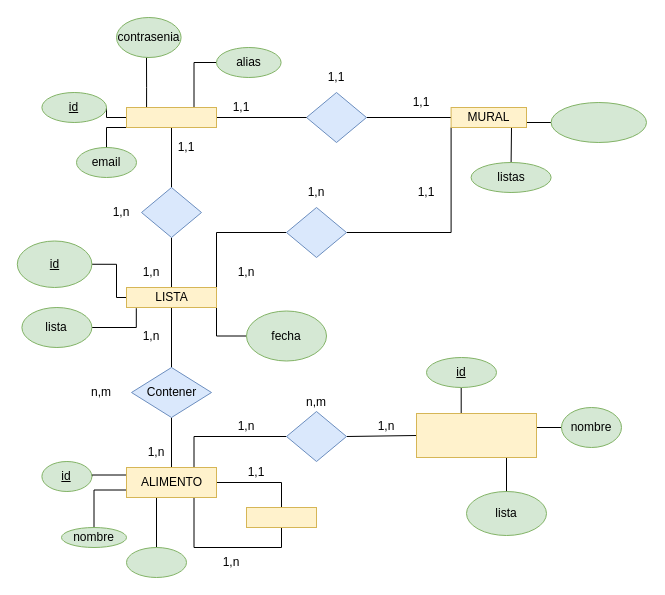
This 665x595 diagram has some shape labels left out. The centre of each missing label's shape, as x and y in pixels:
Adquirir: (x=316, y=232)
categoria: (x=281, y=517)
Estar: (x=316, y=436)
Poseer: (x=336, y=117)
precio: (x=156, y=562)
SUPERMERCADO: (x=476, y=435)
supermercados: (x=598, y=122)
Tiene: (x=171, y=212)
USUARIO: (x=171, y=117)
